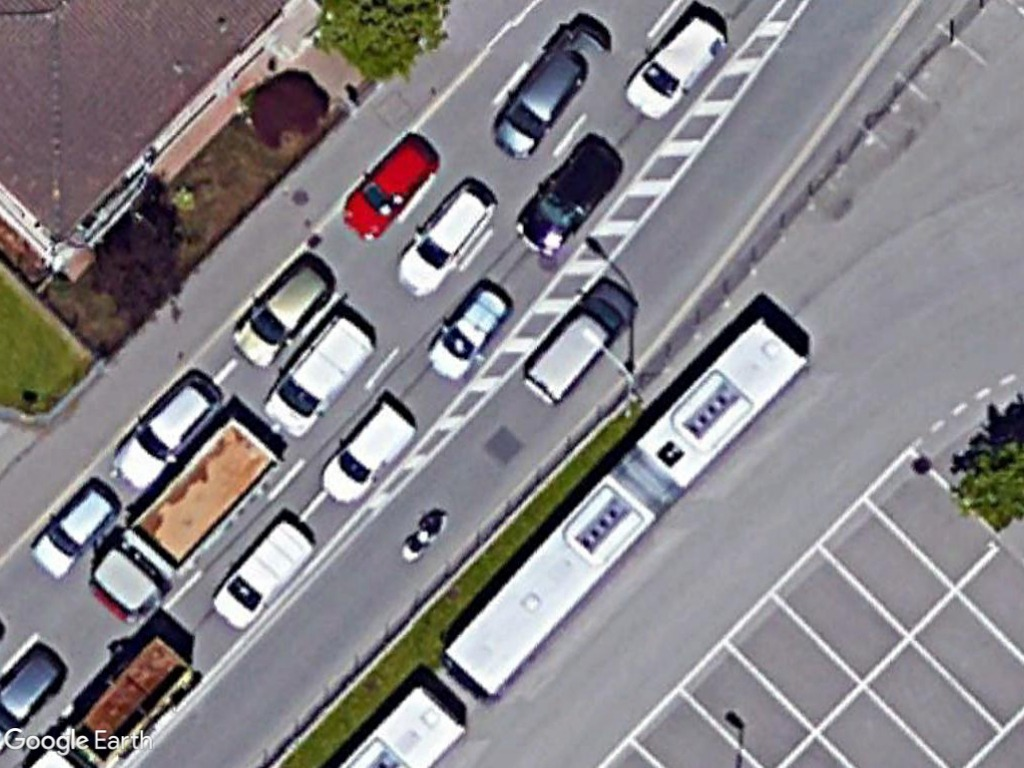bus: (439, 459, 662, 707), (634, 313, 812, 494)
car: (111, 368, 220, 497), (512, 134, 624, 256), (224, 256, 334, 377), (394, 175, 501, 298), (620, 11, 727, 127), (343, 131, 443, 247), (491, 45, 590, 158), (420, 274, 513, 383), (28, 483, 121, 579)
others: (90, 400, 278, 633)
van: (514, 277, 646, 407), (200, 510, 331, 633), (266, 300, 371, 447), (320, 390, 411, 514)
